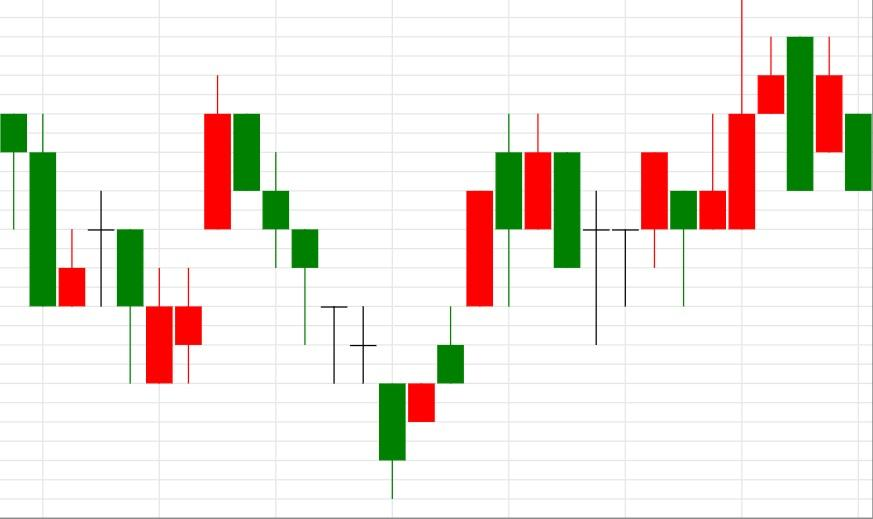bearish_engulfing_fall: (378, 0, 814, 499)
three_black_crows_fall: (145, 74, 319, 384)
